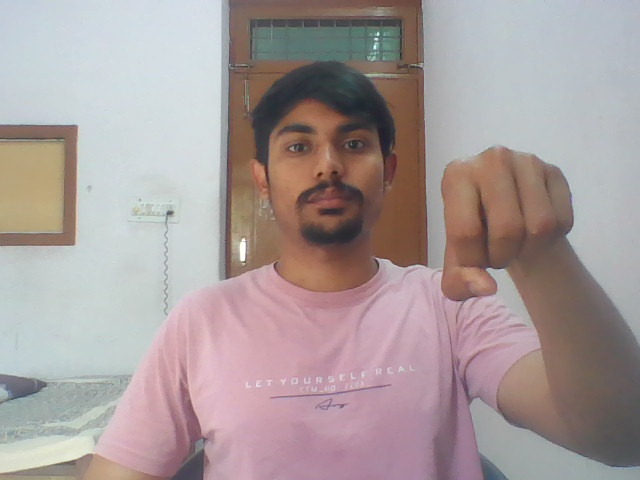Yes: (433, 143, 584, 311)
